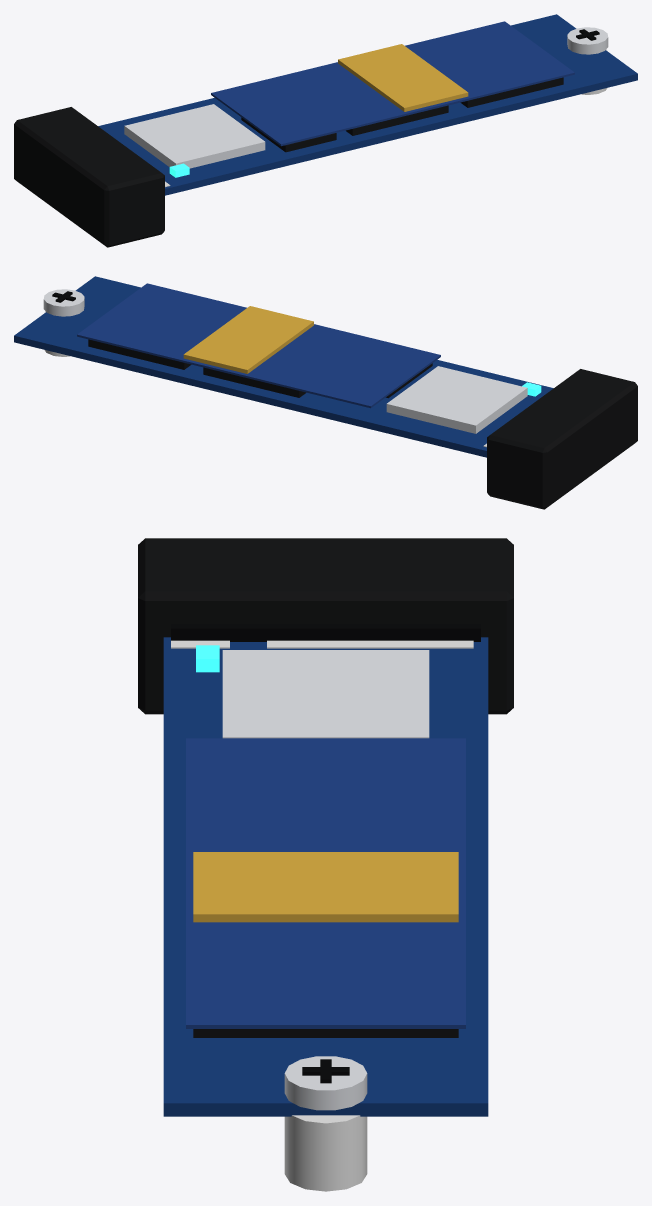
Rendered from hwm_sto_hdd_4tb.glb.
3 views of the same model, one above another, from view 1: azimuth 30°, elevation 25°; view 2: azimuth 150°, elevation 25°; view 3: azimuth 270°, elevation 25° (orthographic). The views are drawn at different scales.
Visible parts, largest first — view 1: SSD_0, Slots, Screw_0; view 2: SSD_0, Slots, Screw_0; view 3: SSD_0, Slots, Screw_0.
Boxes of the visible parts, x1,y1,x2,y2 form: SSD_0: (98, 14, 637, 195); Slots: (14, 49, 607, 247); Screw_0: (567, 27, 608, 54); SSD_0: (14, 276, 553, 457); Slots: (44, 311, 637, 509); Screw_0: (43, 289, 84, 316); SSD_0: (163, 637, 488, 1116); Slots: (138, 538, 513, 1191); Screw_0: (284, 1056, 367, 1110).
Bounding box in the file's own units: 0.0855 × 0.0092 × 0.0255.
